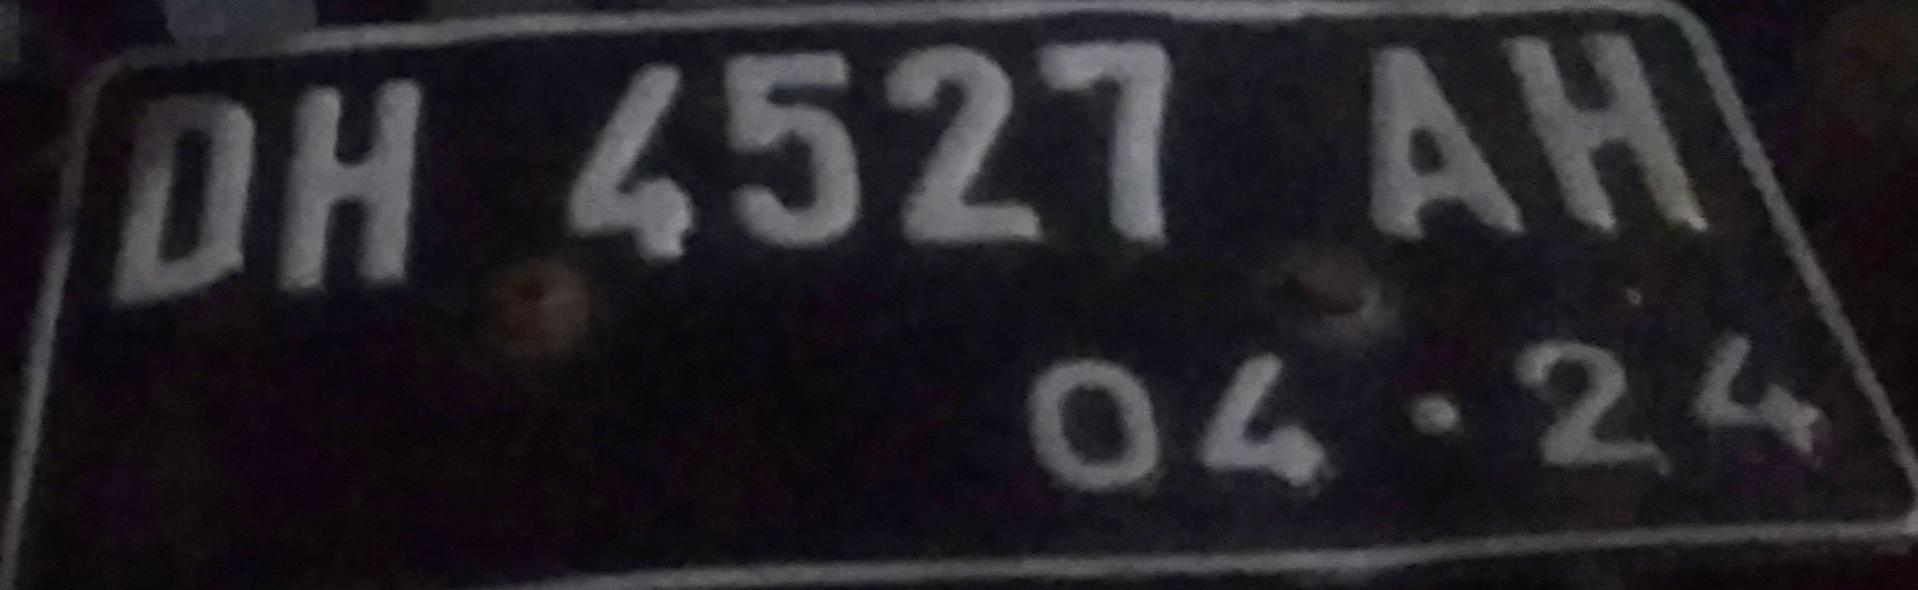2: (868, 37, 1045, 257)
4: (553, 50, 702, 268)
5: (703, 43, 868, 260)
7: (1042, 35, 1182, 262)
A: (1316, 33, 1558, 257)
D: (102, 77, 273, 321)
H: (1457, 13, 1761, 263), (258, 64, 438, 326)
